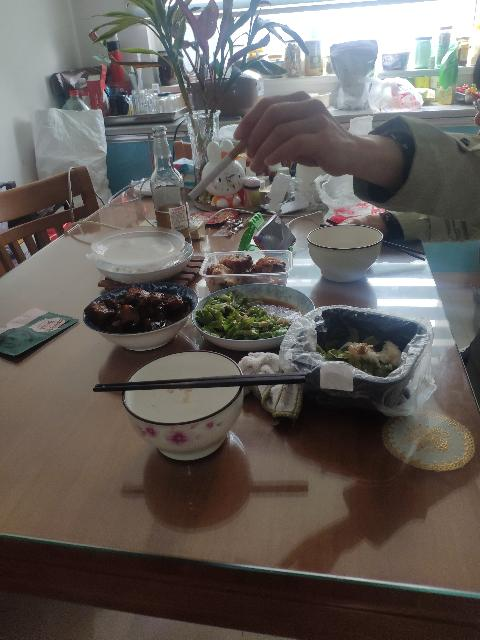Cigarette: (189, 134, 253, 200)
